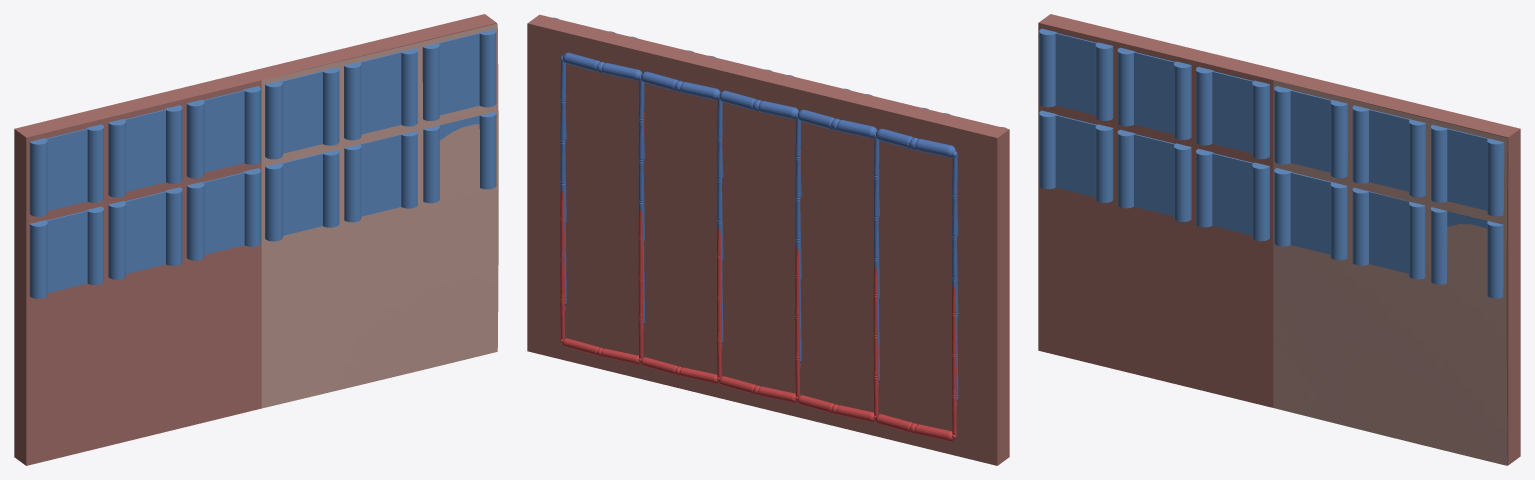
The model's file is dranmar_perfused_tissue_anastomotic_stenosis.glb.
The picture shows the model from 3 angles, left to right: view 1: azimuth 30°, elevation 25°; view 2: azimuth 150°, elevation 25°; view 3: azimuth 330°, elevation 25°; orthographic projection.
Parts seen in each view (by area): view 1: TissueBulk, TissueSurface, Overlay_5, Overlay_4, Overlay_3, Overlay_2, Overlay_0, Overlay_1, Overlay_7, Overlay_6, Overlay_11, Overlay_9 (+2 smaller); view 2: TissueBulk, VT0, VT1, VT2, VT3, VT4, AT0, AT1, AT2, AT3, AT4, VB05 (+5 smaller); view 3: TissueBulk, TissueSurface, Overlay_0, Overlay_1, Overlay_2, Overlay_3, Overlay_4, Overlay_5, Overlay_7, Overlay_6, Overlay_9, Overlay_8 (+2 smaller).
Part boxes in pixels (bbox=[...]): TissueBulk: bbox=[14, 14, 496, 465]; TissueSurface: bbox=[261, 23, 498, 408]; Overlay_5: bbox=[186, 86, 260, 178]; Overlay_4: bbox=[186, 168, 260, 260]; Overlay_3: bbox=[108, 105, 182, 197]; Overlay_2: bbox=[108, 187, 182, 279]; Overlay_0: bbox=[29, 206, 103, 298]; Overlay_1: bbox=[29, 124, 103, 216]; Overlay_7: bbox=[265, 67, 339, 159]; Overlay_6: bbox=[265, 149, 339, 241]; Overlay_11: bbox=[422, 29, 496, 120]; Overlay_9: bbox=[344, 48, 417, 140]; TissueBulk: bbox=[527, 14, 1009, 465]; VT0: bbox=[876, 128, 955, 157]; VT1: bbox=[797, 109, 877, 138]; VT2: bbox=[719, 90, 798, 119]; VT3: bbox=[641, 71, 720, 99]; VT4: bbox=[562, 52, 642, 80]; AT0: bbox=[875, 414, 953, 441]; AT1: bbox=[797, 395, 875, 422]; AT2: bbox=[719, 376, 796, 402]; AT3: bbox=[640, 357, 718, 383]; AT4: bbox=[562, 338, 640, 364]; VB05: bbox=[560, 63, 566, 304]; TissueBulk: bbox=[1038, 14, 1520, 465]; TissueSurface: bbox=[1273, 80, 1507, 465]; Overlay_0: bbox=[1039, 110, 1113, 202]; Overlay_1: bbox=[1039, 28, 1113, 120]; Overlay_2: bbox=[1117, 129, 1191, 221]; Overlay_3: bbox=[1117, 47, 1191, 139]; Overlay_4: bbox=[1196, 149, 1269, 241]; Overlay_5: bbox=[1196, 67, 1269, 159]; Overlay_7: bbox=[1274, 86, 1347, 178]; Overlay_6: bbox=[1274, 168, 1347, 260]; Overlay_9: bbox=[1352, 105, 1425, 197]; Overlay_8: bbox=[1352, 187, 1425, 279].
Bounding box in the file's own units: 0.18 × 0.12 × 0.0168.
